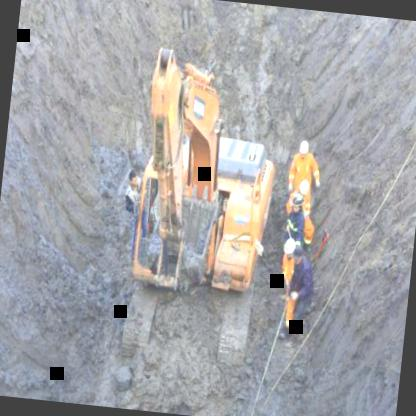head: (126, 166, 140, 188), (290, 244, 304, 266)
helmet: (281, 234, 297, 261), (297, 176, 311, 200), (296, 138, 310, 160)
